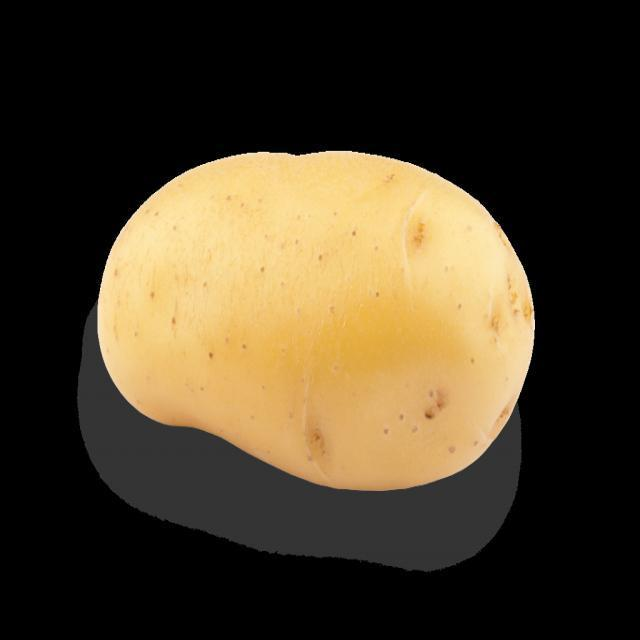potato: (100, 152, 537, 491)
